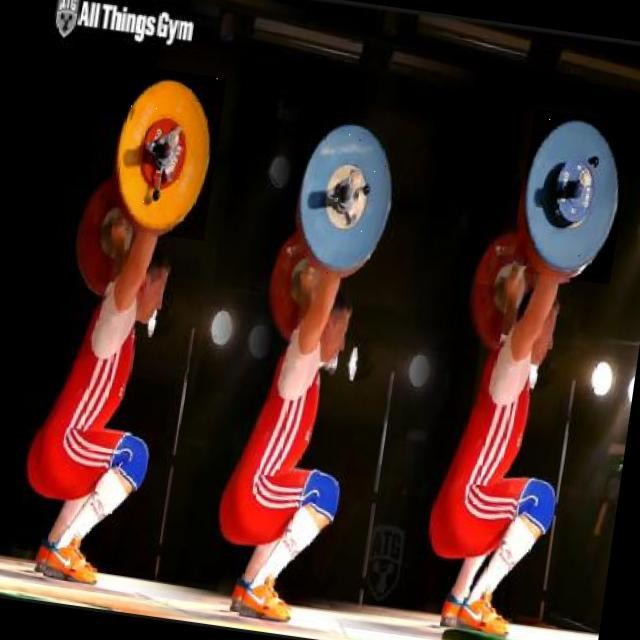barbell: (103, 65, 228, 242), (513, 111, 634, 289), (288, 116, 404, 283)
